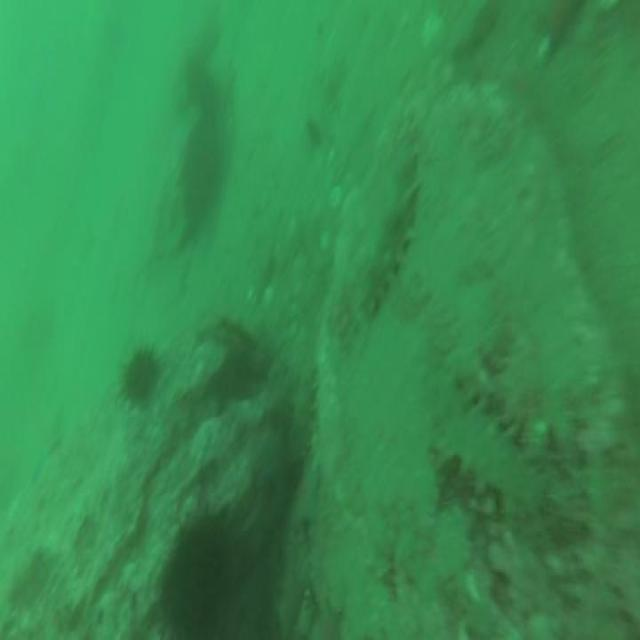echinus: (158, 504, 238, 639), (116, 338, 162, 413)
holothurian: (351, 110, 422, 334), (432, 413, 541, 523), (459, 357, 535, 443), (284, 344, 322, 479)
starfish: (282, 461, 326, 539)
